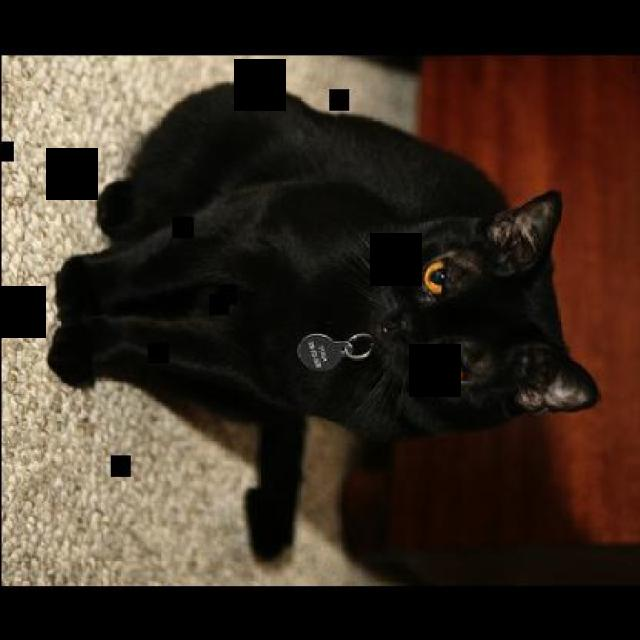unauthorized: (46, 78, 600, 564)
